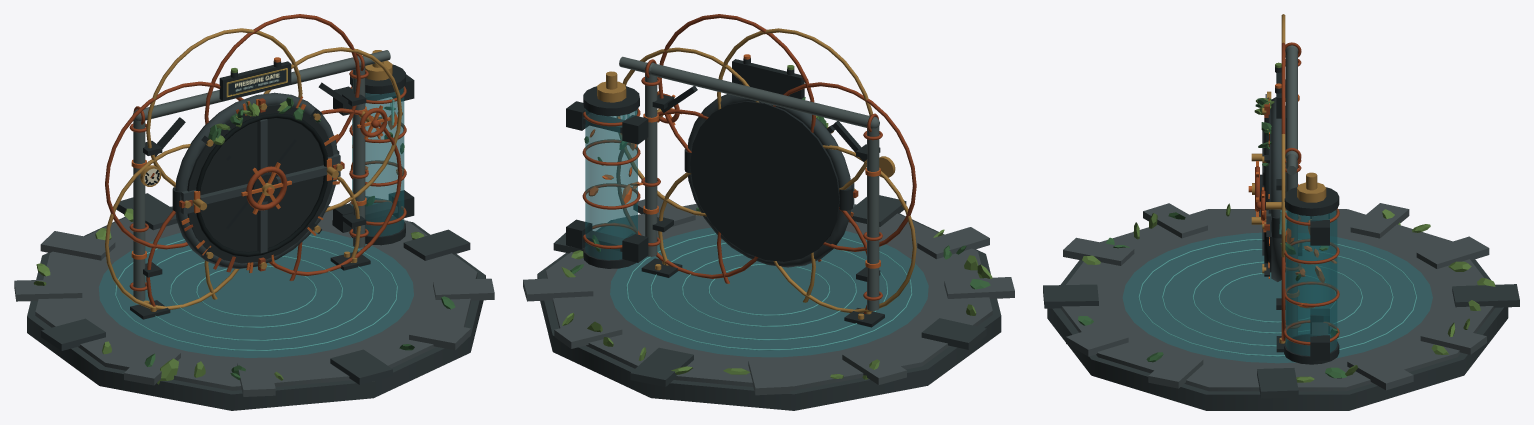
The model's file is asset.glb.
The picture shows the model from 3 angles, left to right: view 1: azimuth 30°, elevation 25°; view 2: azimuth 150°, elevation 25°; view 3: azimuth 270°, elevation 25°; orthographic projection. The views are drawn at different scales.
Parts seen in each view (by area): view 1: CorrodedWaterPressureGate; view 2: CorrodedWaterPressureGate; view 3: CorrodedWaterPressureGate.
Boxes of the visible parts, x1,y1,x2,y2 form: CorrodedWaterPressureGate: (14,14,494,410); CorrodedWaterPressureGate: (523,14,1014,410); CorrodedWaterPressureGate: (1043,14,1519,410).
Bounding box in the file's own units: 9.93 × 7.17 × 10.14.
Materials: 15 (1 with a texture image).
